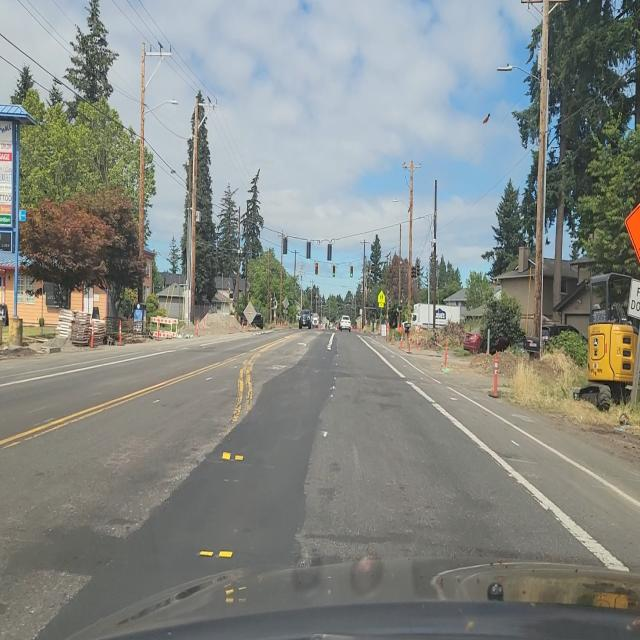car: (298, 309, 312, 329), (250, 310, 264, 330), (339, 315, 351, 332), (311, 313, 319, 329)
crosswalk-sign: (378, 290, 386, 308)
delineator: (489, 349, 500, 400), (441, 341, 450, 373), (493, 349, 499, 376), (407, 327, 412, 354), (399, 324, 404, 348), (90, 320, 94, 348), (118, 320, 122, 346), (416, 325, 420, 349), (486, 336, 490, 356), (390, 324, 394, 342), (386, 323, 390, 338), (241, 318, 245, 332), (196, 319, 199, 337), (155, 330, 161, 339), (357, 322, 361, 332), (378, 322, 381, 335), (230, 318, 232, 334), (418, 323, 422, 331), (286, 322, 289, 328)
